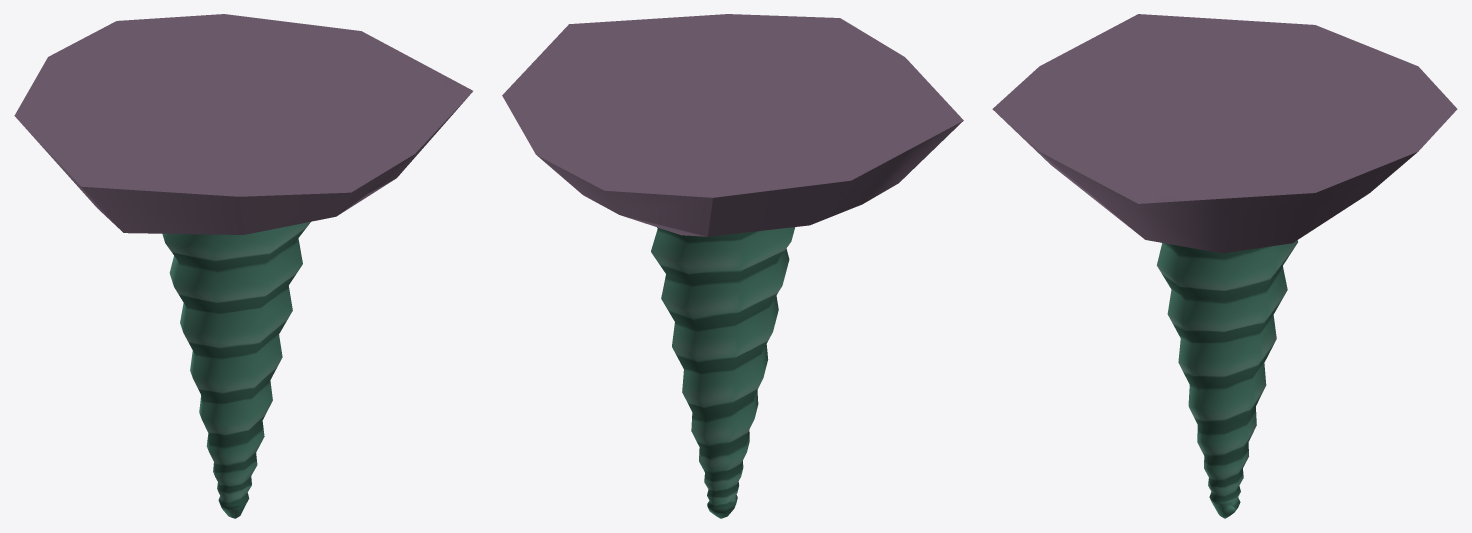
File: m_stalagmite3_je_4.fbx
3 renders of one model, left to right at view 1: azimuth 30°, elevation 25°; view 2: azimuth 150°, elevation 25°; view 3: azimuth 270°, elevation 25°, orthographic.
Visible parts, largest first — view 1: polySurface294; view 2: polySurface294; view 3: polySurface294.
Boxes of the visible parts, x1,y1,x2,y2 form: polySurface294: (14, 14, 472, 518); polySurface294: (502, 14, 963, 518); polySurface294: (992, 14, 1457, 518).
Bounding box in the file's own units: 905 × 909 × 937.
